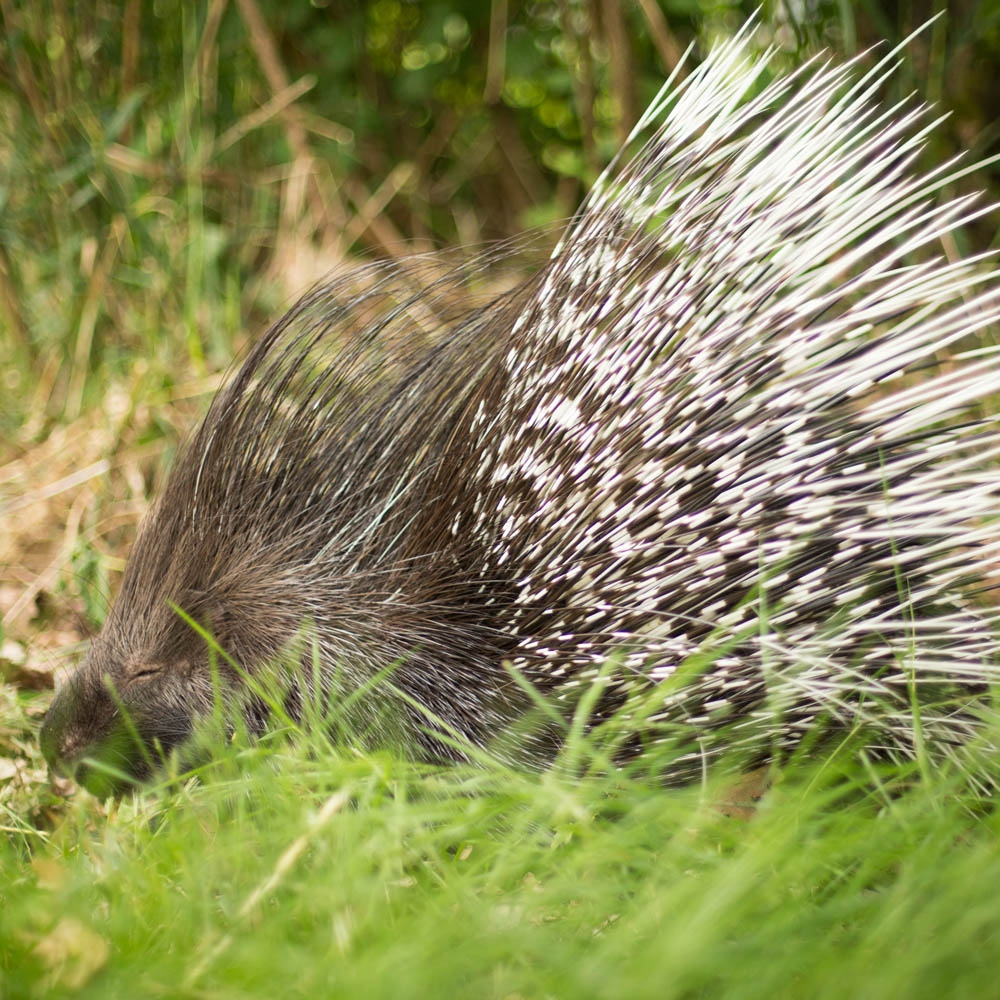porcupine: (30, 32, 986, 848)
